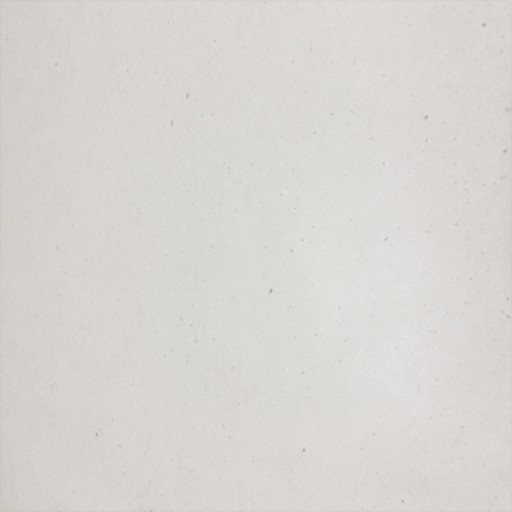lego: (240, 238, 274, 272)
